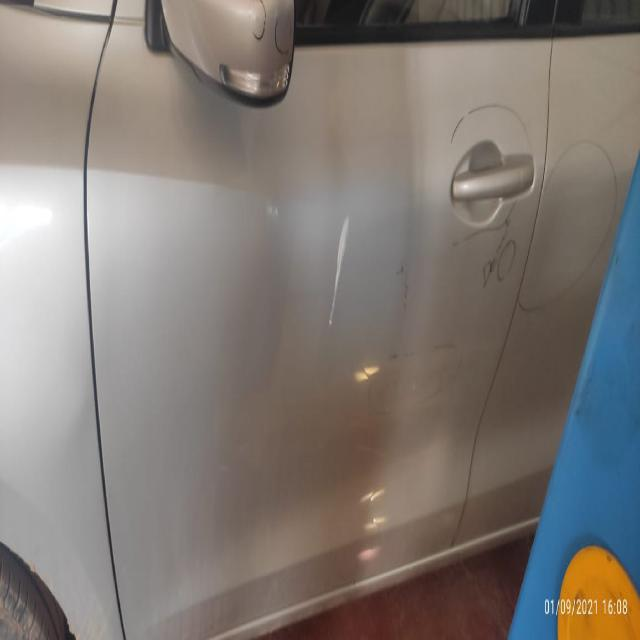doorouter-dent: (147, 48, 472, 586)
